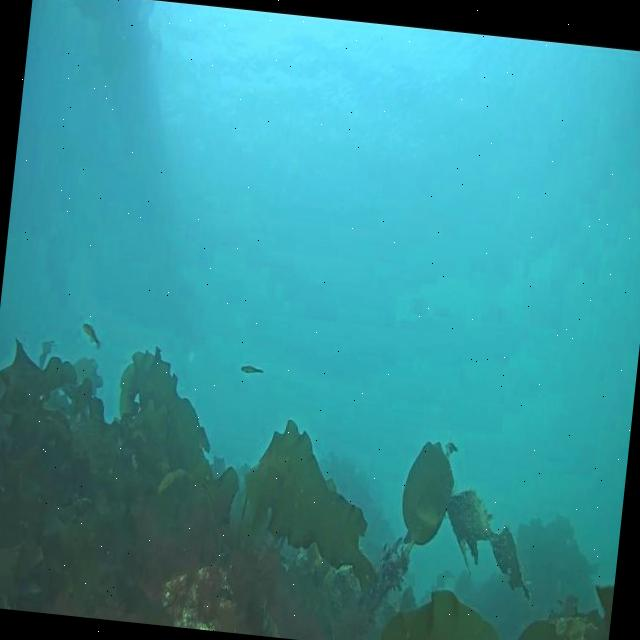fish: (81, 322, 102, 344), (237, 360, 263, 376)
